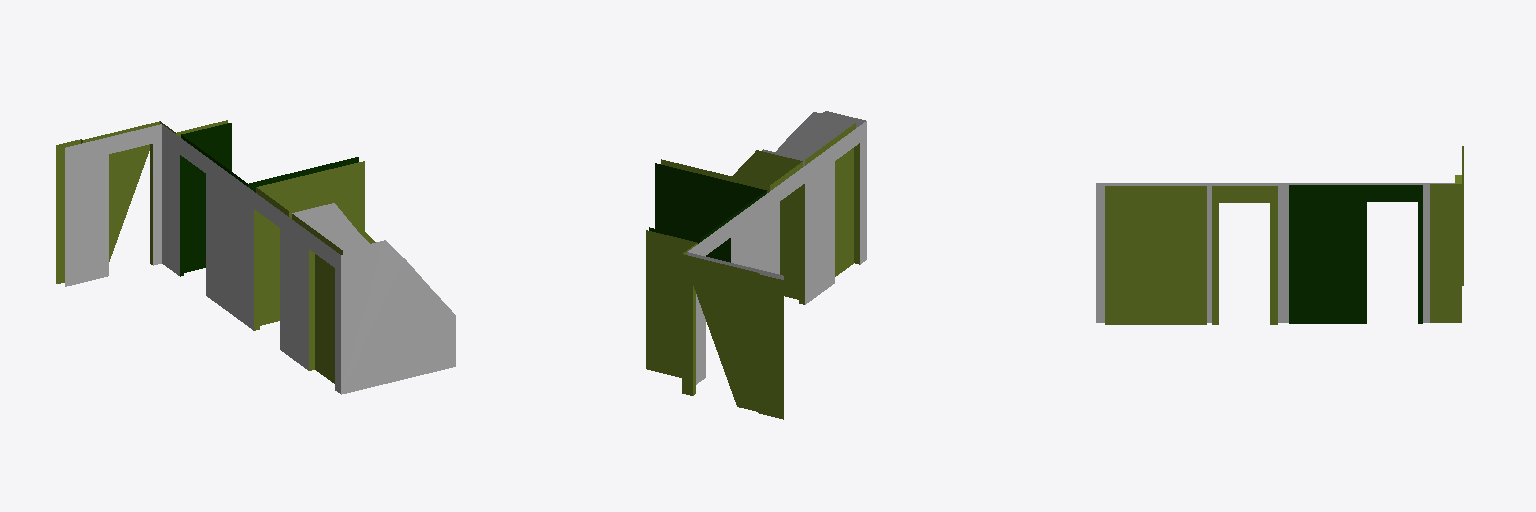
Rendered from first_wall1.obj.
3 views of the same model, side by side, from view 1: azimuth 30°, elevation 25°; view 2: azimuth 150°, elevation 25°; view 3: azimuth 270°, elevation 25° (orthographic).
Parts seen in each view (by area): view 1: first_wall1; view 2: first_wall1; view 3: first_wall1.
Boxes of the visible parts, x1,y1,x2,y2 form: first_wall1: [56, 120, 455, 394]; first_wall1: [646, 111, 866, 419]; first_wall1: [1096, 146, 1463, 324].
Size of the model in its own units: 3.65 by 2.25 by 5.4.